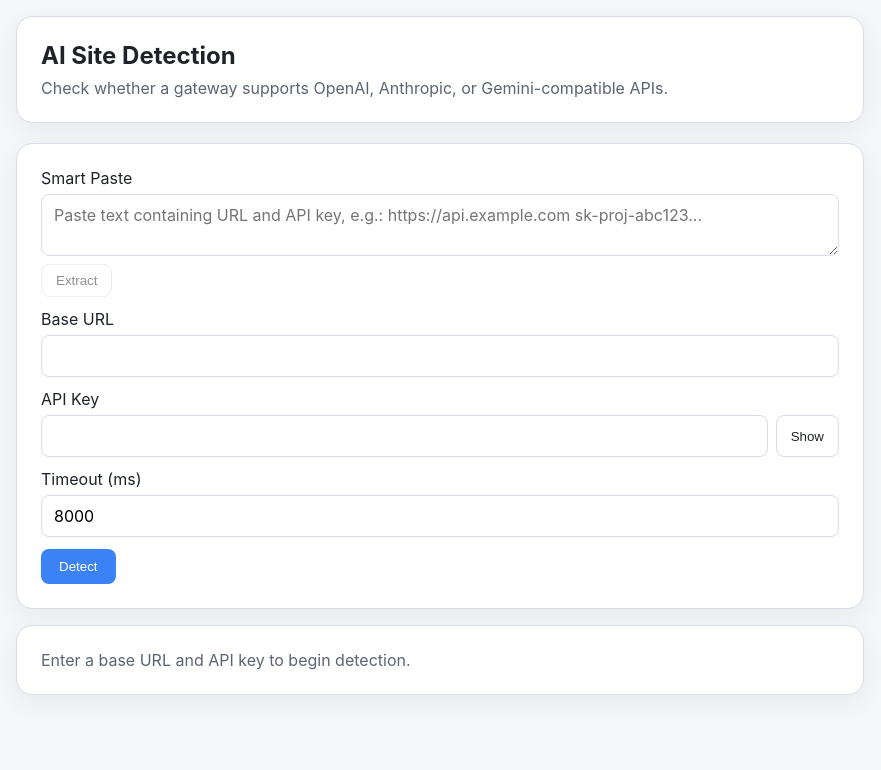
Test: App smoke › shows validation feedback when submitting empty values
Click the button "Detect".
click(78, 566)  # box x1=41 y1=549 x2=116 y2=584
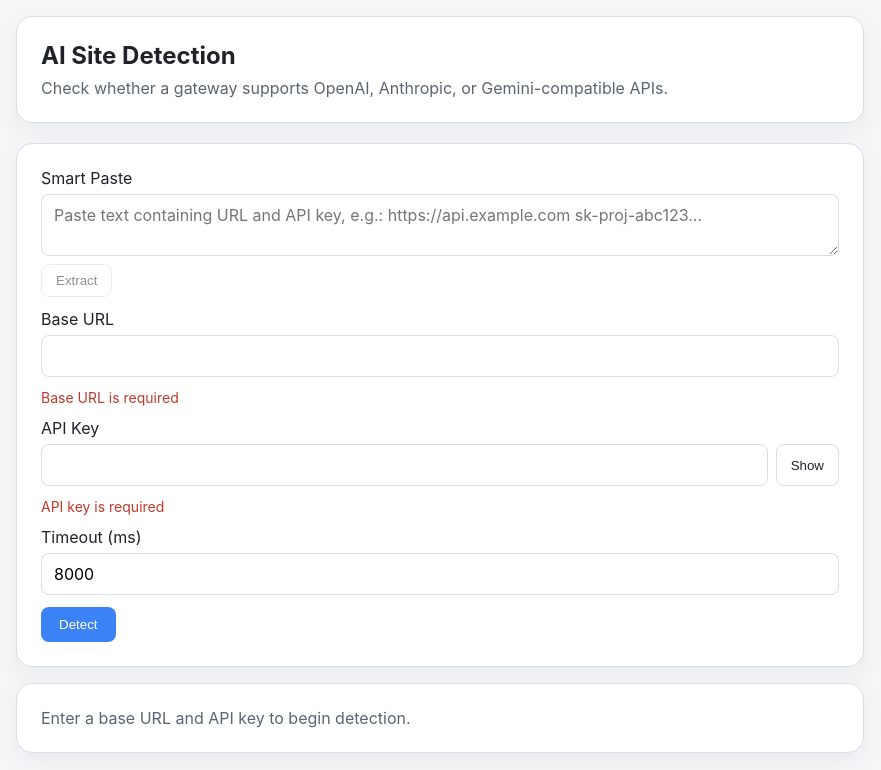
Result: the text "Base URL is required" is shown at x1=41 y1=389 x2=179 y2=406
Result: the text "API key is required" is shown at x1=41 y1=498 x2=164 y2=515
